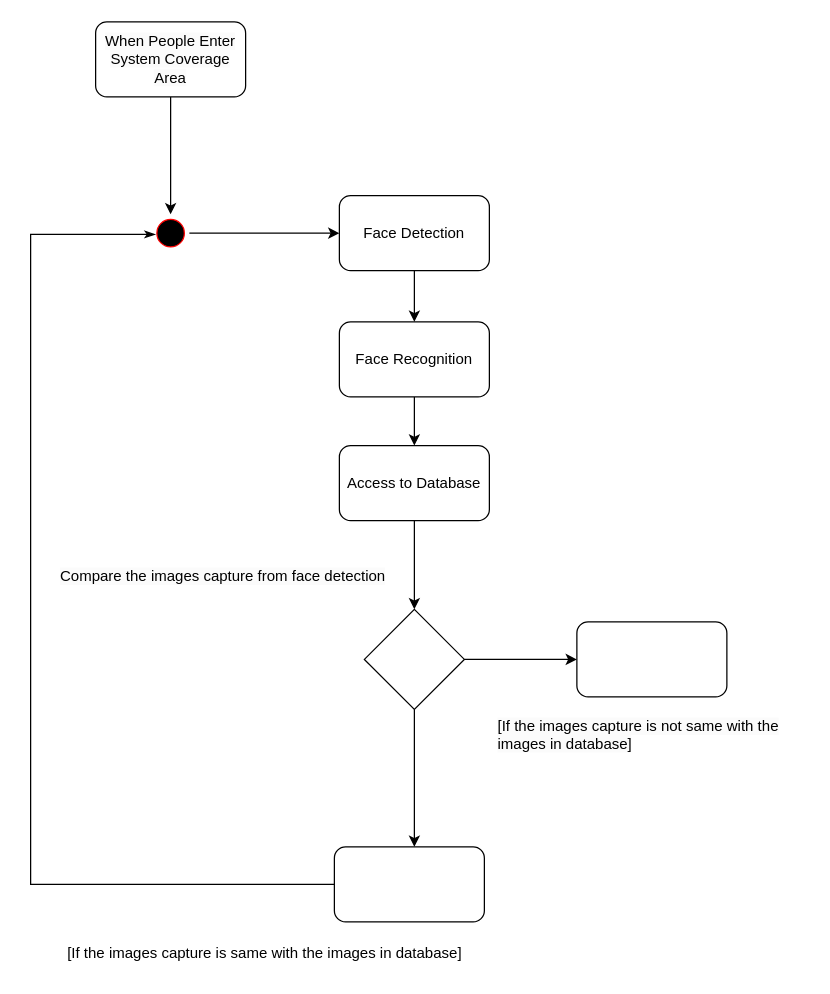
This 830x994 diagram has some shape labels left out. Here are the shapes that lost their labels. From the top down, the centre of each, then its label:
At (651,659): "Alert Sound System".
At (408,884): "Proceed to next person".
